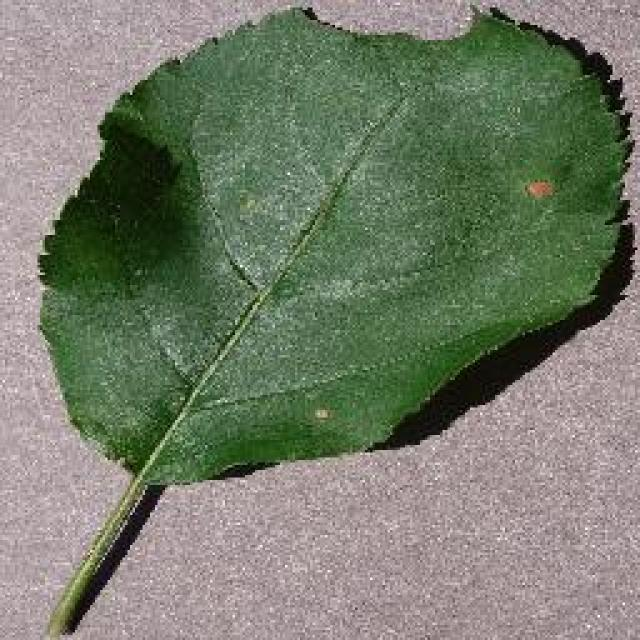Black_rot: (33, 0, 635, 638)
